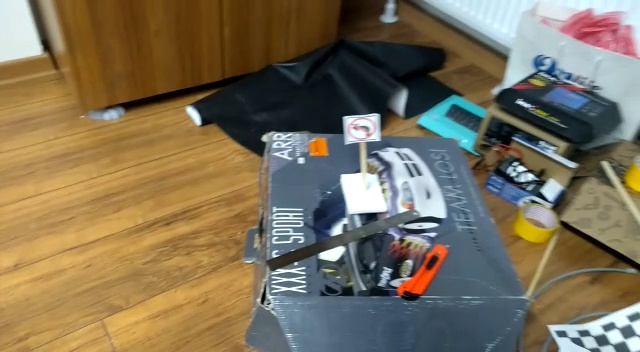sola_donulmez: (345, 115, 379, 143)
